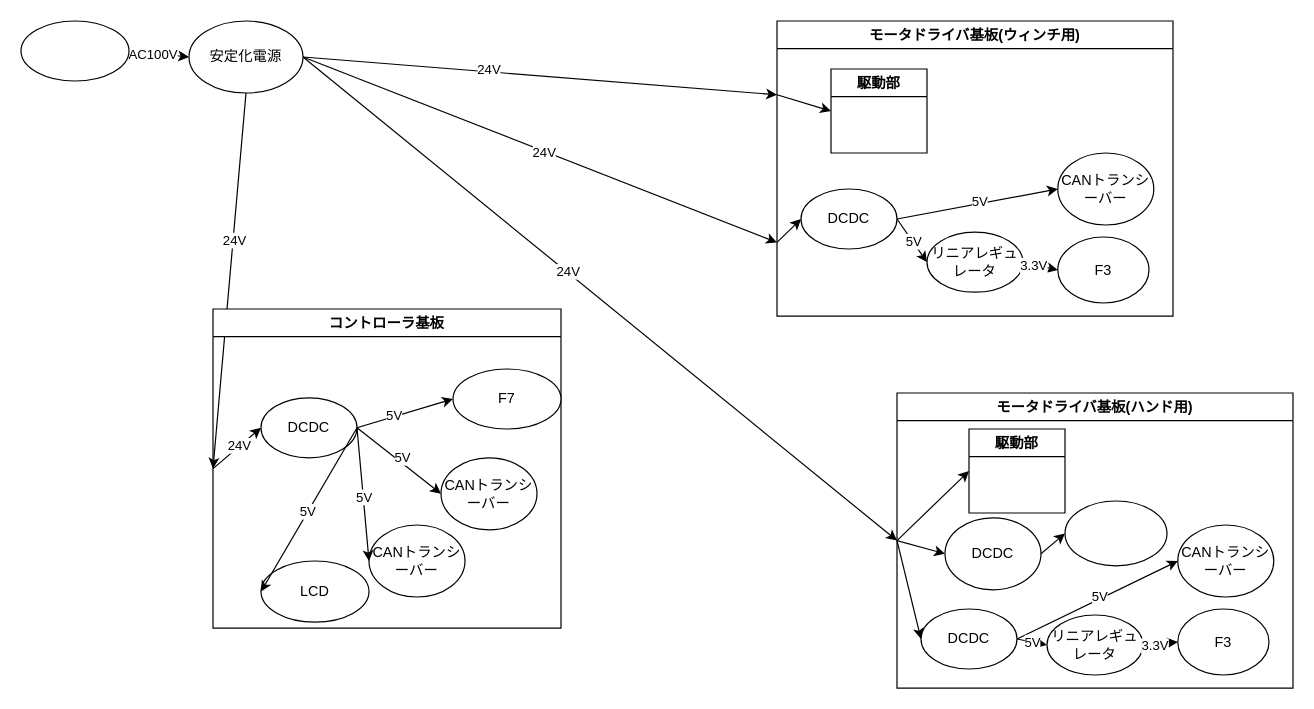
Some shapes in this 1314 by 709 pixel diagram are drawn without their labels. The shapes that lost their labels are listed below. From the top down, each one's centre as x and y in pixels, then its label:
At (74,50): "コンセント".
At (1115,533): "Neopixel".
